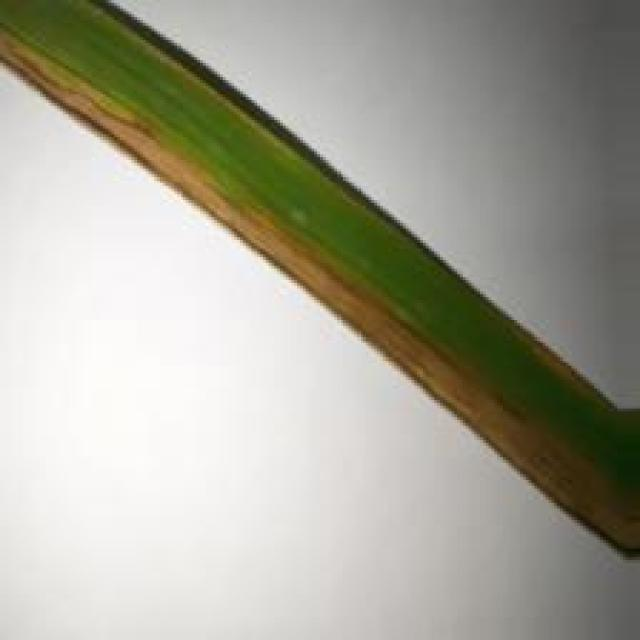Leaf_Scald: (1, 31, 640, 558)
